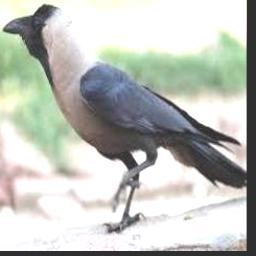Crow: (2, 3, 246, 234)
